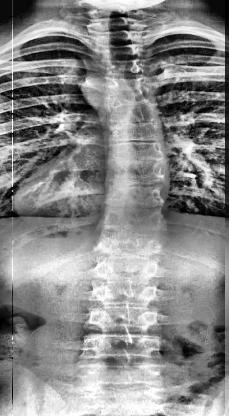Vertebrae: (78, 332, 165, 360), (92, 280, 162, 310), (94, 183, 170, 209), (103, 158, 175, 182), (96, 206, 164, 230), (85, 309, 159, 331), (96, 76, 158, 102), (100, 233, 164, 258), (94, 259, 160, 281), (99, 140, 168, 160), (100, 122, 165, 140), (104, 102, 162, 120), (102, 58, 146, 74), (98, 40, 142, 53), (99, 27, 136, 39)
